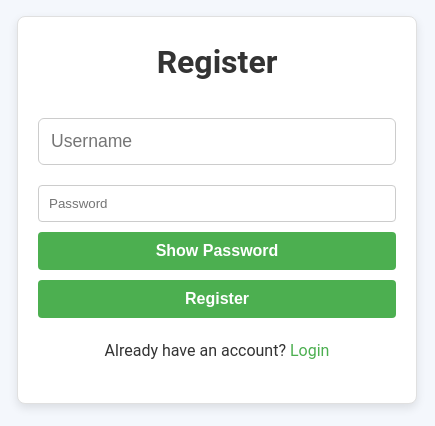
Test: LoginRegisterPage › switches to Login form when clicking login link
Step 1. Click the link "Login" → [310, 351], box x1=290 y1=341 x2=330 y2=360
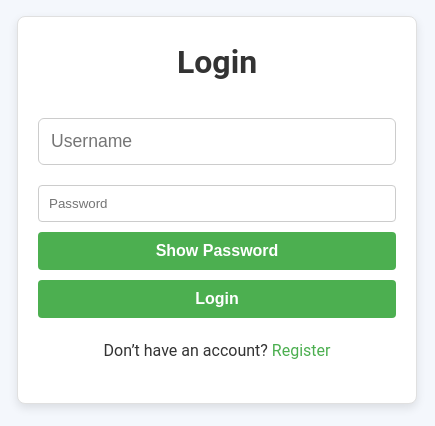
Check: the field with placeholder "Username" is shown, box x1=38 y1=118 x2=396 y2=165
Check: the heading "Login" is shown, box x1=177 y1=43 x2=257 y2=81
Check: the button "Login" is shown, box x1=38 y1=280 x2=396 y2=318
